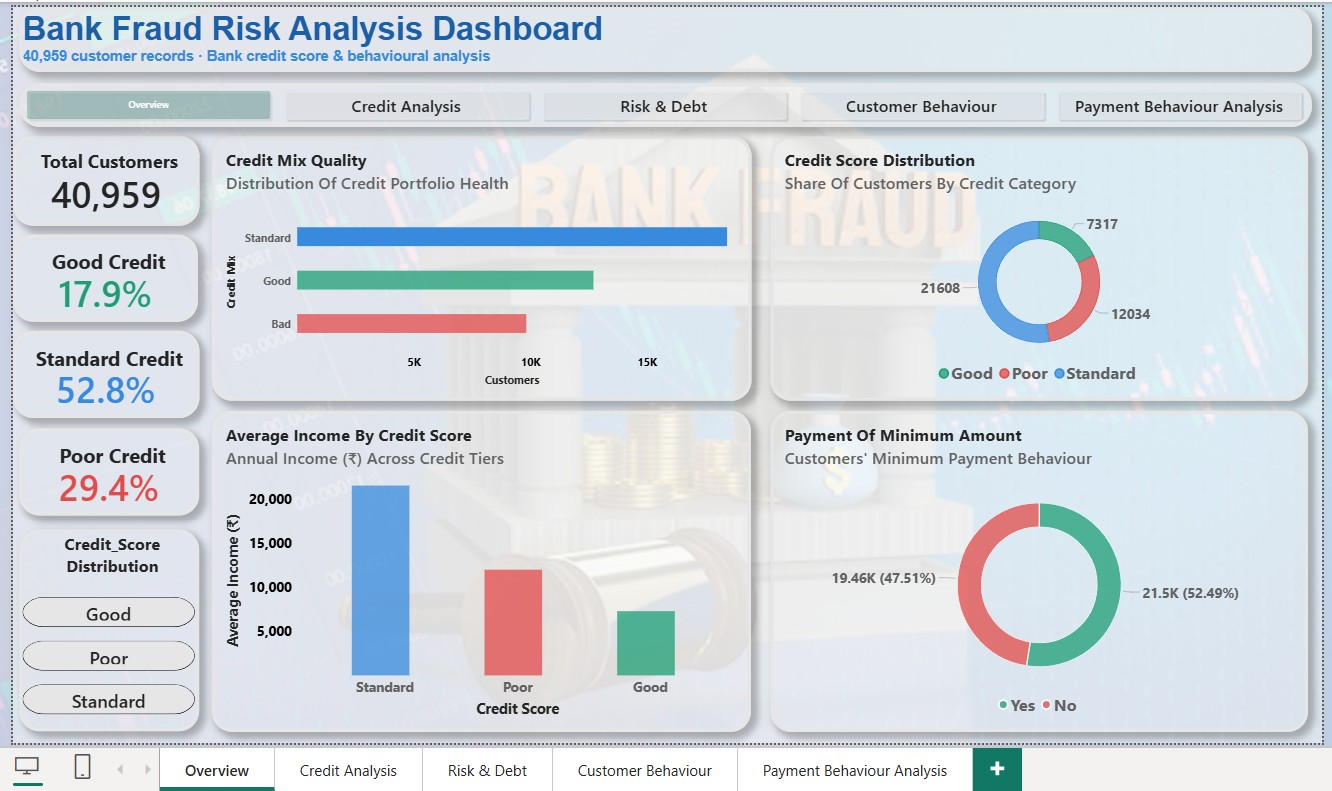

This screenshot's page, from the dashboard's own definition file:
{"tool":"powerbi","page":{"name":"Overview","canvas":[1920,1080],"ordinal":0},"visuals":[{"type":"barChart","title":"Credit Mix Quality","fields":{"Category":["paisabazar_bank_fraud_detection_project-dataset.Credit_Mix"],"Y":["CountNonNull(paisabazar_bank_fraud_detection_project-dataset.Customer_ID)"]},"box":[291.6,188.9,792.4,388.9],"z":0},{"type":"donutChart","title":"Credit Score Distribution","fields":{"Y":["CountNonNull(paisabazar_bank_fraud_detection_project-dataset.Credit_Score)"],"Category":["paisabazar_bank_fraud_detection_project-dataset.Credit_Score"]},"box":[1111.6,188.9,788.7,388.9],"z":2000},{"type":"clusteredColumnChart","title":"Average Income By Credit Score","fields":{"Category":["paisabazar_bank_fraud_detection_project-dataset.Credit_Score"],"Y":["CountNonNull(paisabazar_bank_fraud_detection_project-dataset.Credit_Score)"]},"box":[291.9,592.4,791.4,471.4],"z":3000},{"type":"donutChart","title":"Payment Of Minimum Amount","fields":{"Y":["CountNonNull(paisabazar_bank_fraud_detection_project-dataset.Payment_Behaviour)"],"Category":["paisabazar_bank_fraud_detection_project-dataset.Payment_of_Min_Amount"]},"box":[1111.4,592.4,789.2,471.4],"z":4000},{"type":"card","title":"Total Customers","fields":{"Values":["CountNonNull(paisabazar_bank_fraud_detection_project-dataset.Customer_ID)"]},"box":[0,188.9,273.3,132.1],"z":5000},{"type":"card","title":"Good Credit","fields":{"Values":["paisabazar_bank_fraud_detection_project-dataset.Good Credit %"]},"box":[0,333.8,271.5,128.4],"z":6000},{"type":"card","title":"Standard Credit","fields":{"Values":["paisabazar_bank_fraud_detection_project-dataset.Standard Credit %"]},"box":[0,475.1,273.3,128.4],"z":7000},{"type":"card","title":"Poor Credit","fields":{"Values":["paisabazar_bank_fraud_detection_project-dataset.Poor Credit %"]},"box":[9.2,618.1,264.1,128.4],"z":8000},{"type":"advancedSlicerVisual","title":"Credit_Score Distribution","fields":{"Values":["paisabazar_bank_fraud_detection_project-dataset.Credit_Score"]},"box":[8.6,767.6,263.8,296.2],"z":9000},{"type":"textbox","box":[9.2,0,1896.6,95.4],"z":10000},{"type":"pageNavigator","box":[9.2,111.9,1896.6,64.2],"z":14001}]}

Visuals, with their boxes on the page's 1920x1080 design canvas (x1, y1, x2, y2). These are canvas units, not pixel positions in the 1332x791 screenshot, which may show the page scaled, cropped or inside an application window:
"Credit Mix Quality" barChart: (x1=292, y1=189, x2=1084, y2=578)
"Credit Score Distribution" donutChart: (x1=1112, y1=189, x2=1900, y2=578)
"Average Income By Credit Score" clusteredColumnChart: (x1=292, y1=592, x2=1083, y2=1064)
"Payment Of Minimum Amount" donutChart: (x1=1111, y1=592, x2=1901, y2=1064)
"Total Customers" card: (x1=0, y1=189, x2=273, y2=321)
"Good Credit" card: (x1=0, y1=334, x2=272, y2=462)
"Standard Credit" card: (x1=0, y1=475, x2=273, y2=604)
"Poor Credit" card: (x1=9, y1=618, x2=273, y2=746)
"Credit_Score Distribution" advancedSlicerVisual: (x1=9, y1=768, x2=272, y2=1064)
textbox: (x1=9, y1=0, x2=1906, y2=95)
pageNavigator: (x1=9, y1=112, x2=1906, y2=176)
